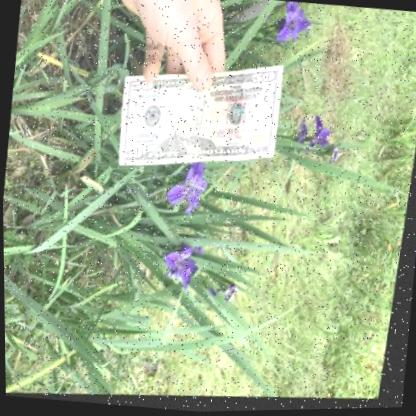fifty-front: (120, 69, 283, 169)
